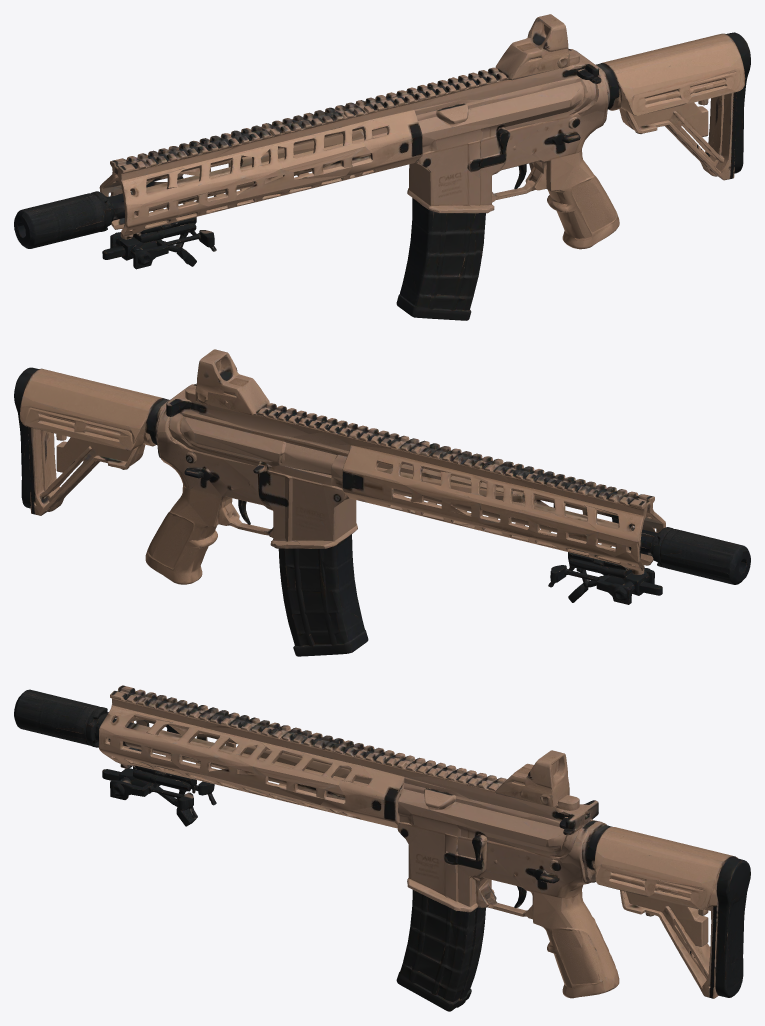
3 renders of one model, top to bottom at view 1: azimuth 30°, elevation 25°; view 2: azimuth 150°, elevation 25°; view 3: azimuth 330°, elevation 25°, orthographic.
Size of the model in its own units: 1.9 by 0.687 by 0.1742.
1 material, 1 textured.
